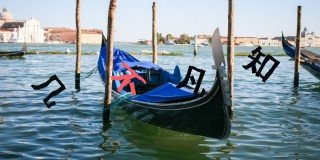不: (112, 62, 147, 96)
几: (30, 72, 64, 109)
凡: (177, 65, 208, 99)
知: (243, 43, 281, 83)
